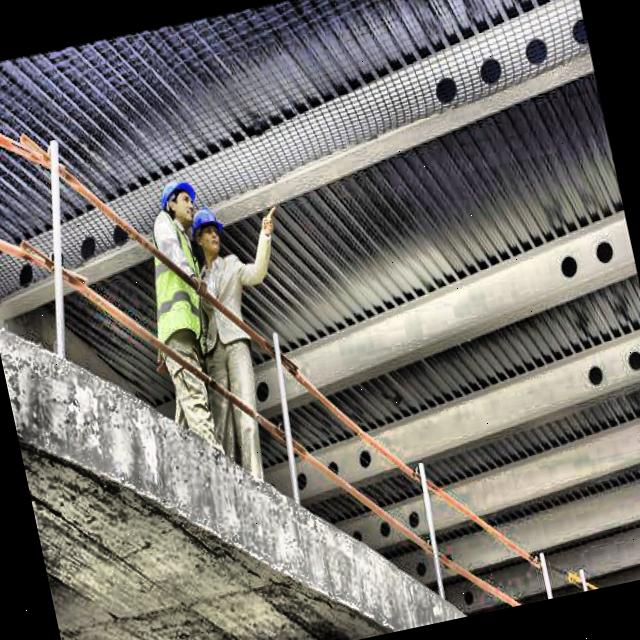helmet: (187, 201, 230, 262), (156, 170, 202, 226)
